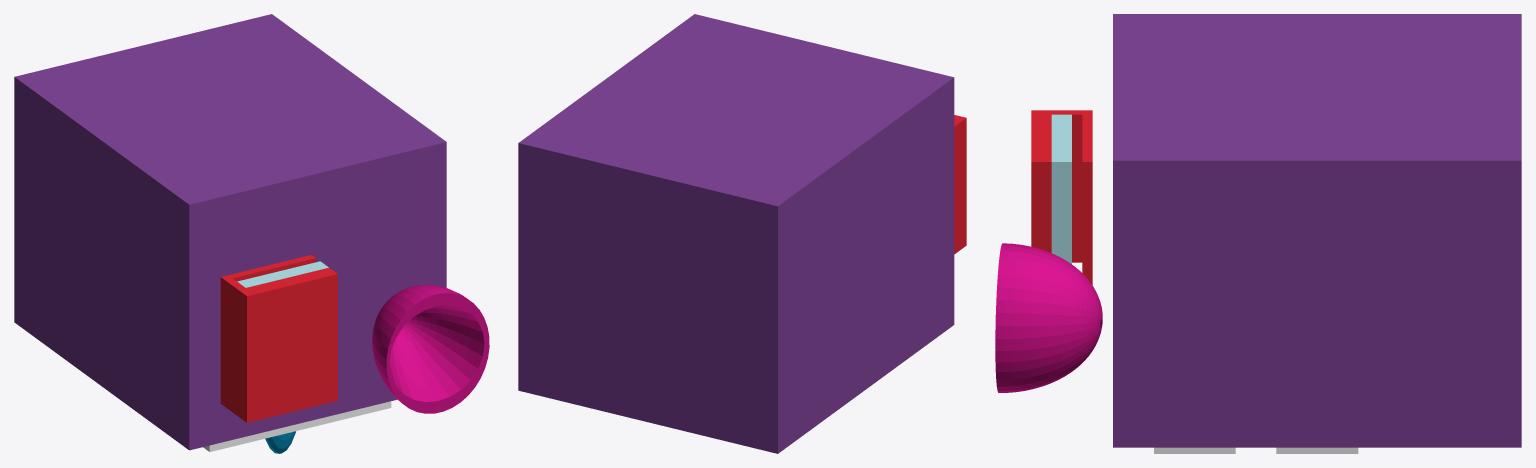
File: tinker.obj
3 views of the same model, side by side, from view 1: azimuth 30°, elevation 25°; view 2: azimuth 150°, elevation 25°; view 3: azimuth 270°, elevation 25° (orthographic). The views are drawn at different scales.
Visible parts, largest first — view 1: group_0_8273816, group_0_15277357, group_0_14093196, group_0_16448250, group_0_11593967; view 2: group_0_8273816, group_0_15277357; view 3: group_0_8273816, group_0_14093196, group_0_15277357, group_0_11593967, group_0_16448250.
Boxes of the visible parts, x1,y1,x2,y2 form: group_0_8273816: [14, 14, 446, 450]; group_0_15277357: [220, 255, 337, 422]; group_0_14093196: [372, 285, 489, 413]; group_0_16448250: [203, 401, 391, 451]; group_0_11593967: [237, 261, 328, 287]; group_0_8273816: [518, 14, 954, 453]; group_0_15277357: [954, 115, 966, 254]; group_0_8273816: [1113, 14, 1521, 447]; group_0_14093196: [995, 243, 1102, 392]; group_0_15277357: [1031, 110, 1092, 284]; group_0_11593967: [1051, 114, 1071, 264]; group_0_16448250: [1154, 447, 1358, 453].
Bounding box in the file's own units: 34 × 38 × 51.52.
